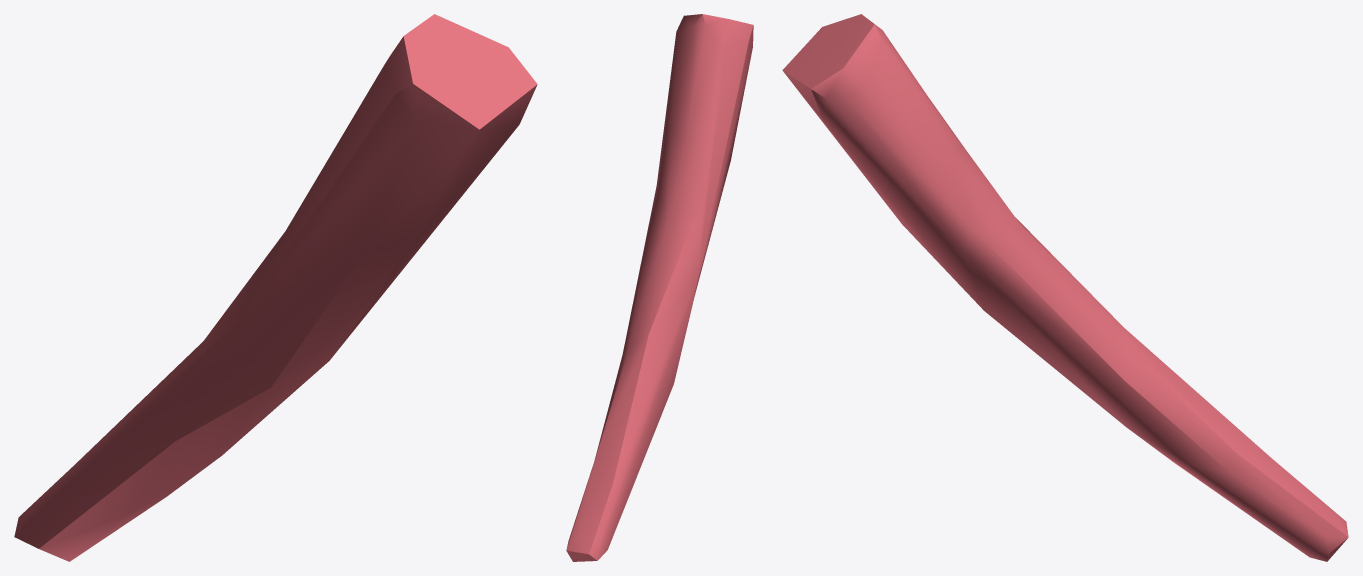
Rendered from fma68139_fj5952.glb.
3 views of the same model, side by side, from view 1: azimuth 30°, elevation 25°; view 2: azimuth 150°, elevation 25°; view 3: azimuth 270°, elevation 25° (orthographic). The views are drawn at different scales.
Visible parts, largest first — view 1: FMA68139_FJ5952; view 2: FMA68139_FJ5952; view 3: FMA68139_FJ5952.
Part boxes in pixels (<box>): FMA68139_FJ5952: <box>14,14,537,561</box>; FMA68139_FJ5952: <box>566,14,753,561</box>; FMA68139_FJ5952: <box>782,14,1348,561</box>.
Bounding box in the file's own units: 0.00413 × 0.016 × 0.0145.
